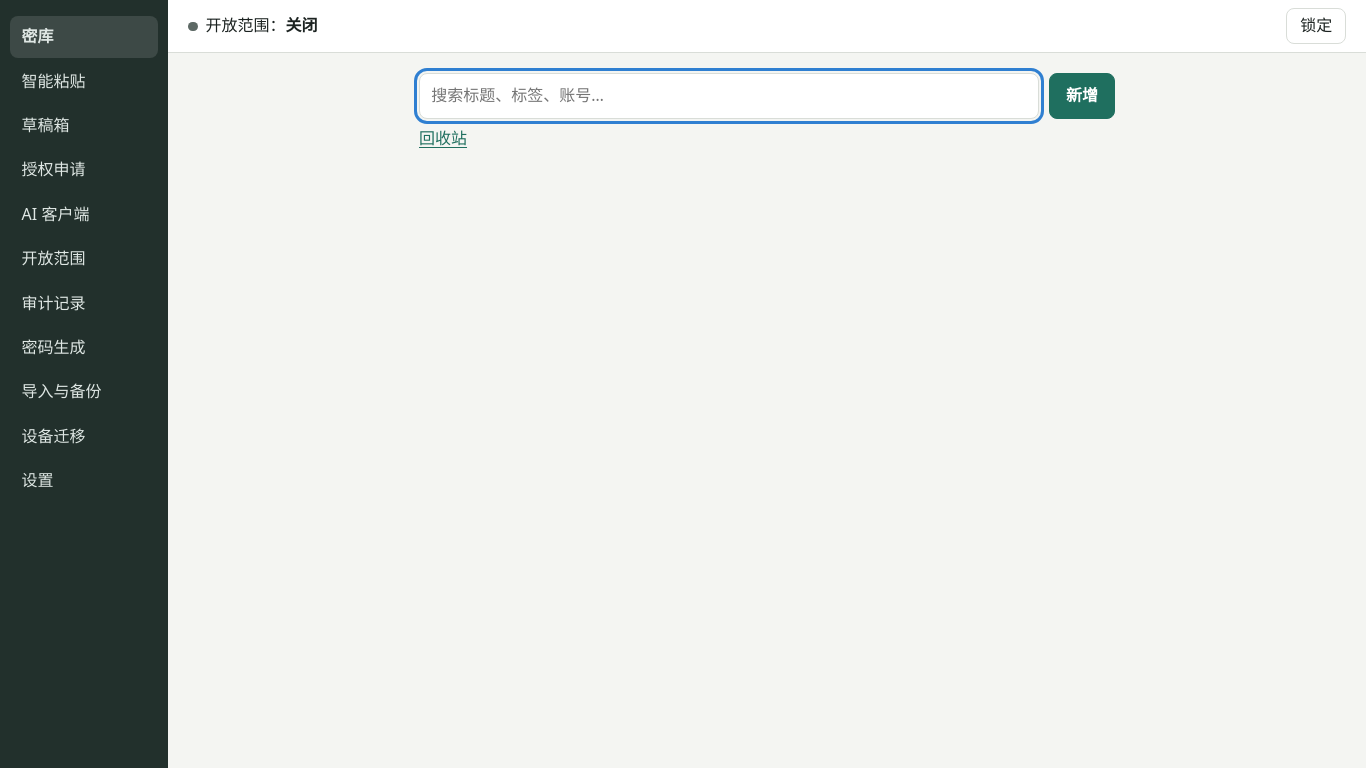
it: 开放范围、客户端、审计、设置 › 没有开放公网时不能发起桥接配对
The width and height of the screenshot is (1366, 768).
Click the button "AI 客户端".
click(84, 215)  # box [10, 194, 158, 236]
(page scrolled)
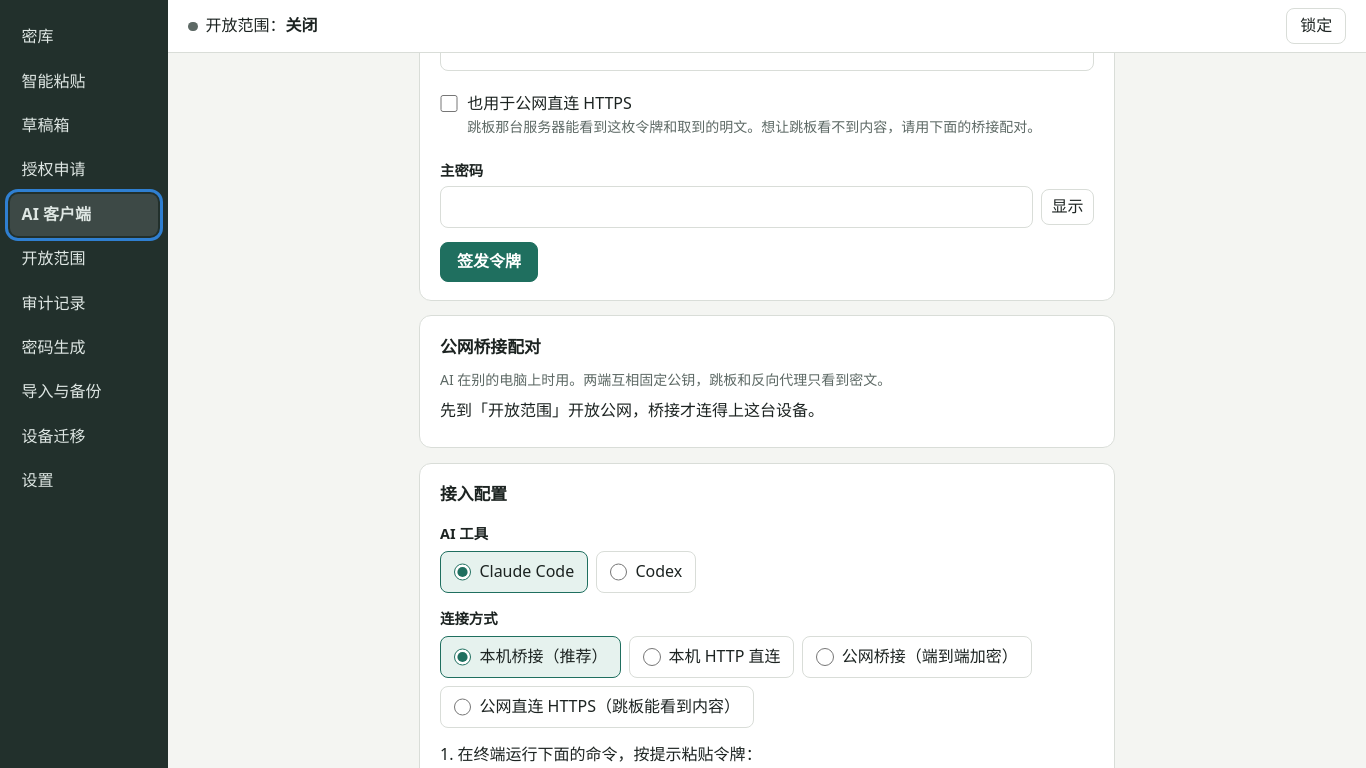
Result: the text "先到「开放范围」开放公网，桥接才连得上这台设备。" is shown at [440, 399, 824, 421]
